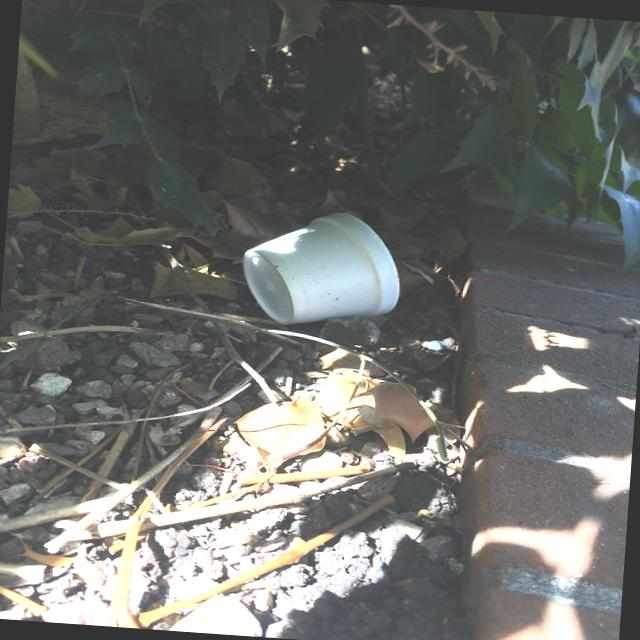Trash: (238, 204, 407, 334)
